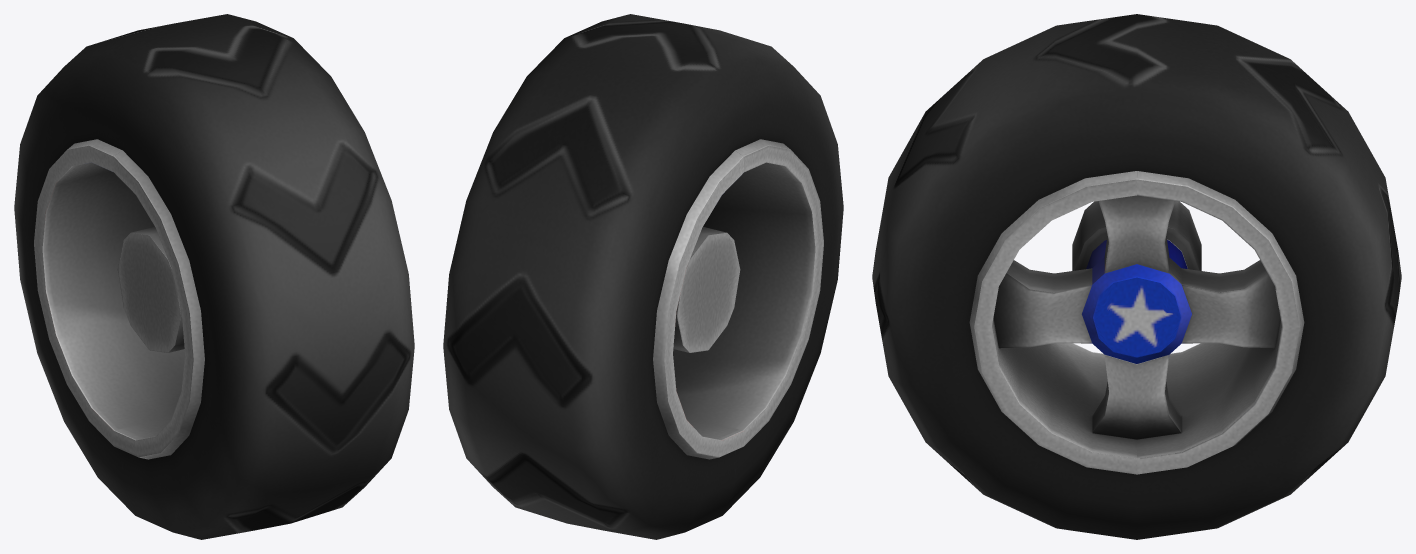
Rendered from body_tombrock_wheel.fbx.
3 views of the same model, side by side, from view 1: azimuth 30°, elevation 25°; view 2: azimuth 150°, elevation 25°; view 3: azimuth 270°, elevation 25° (orthographic).
Visible parts, largest first — view 1: Torus; view 2: Torus; view 3: Torus.
Part boxes in pixels (x1,y1,x2,y2): Torus: (14, 14, 414, 539); Torus: (443, 14, 843, 539); Torus: (872, 14, 1401, 539).
Size of the model in its own units: 44.88 by 100 by 100.
